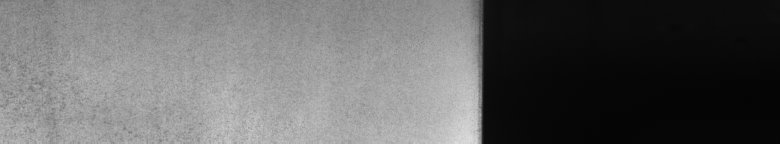ib: (4, 54, 137, 136)
